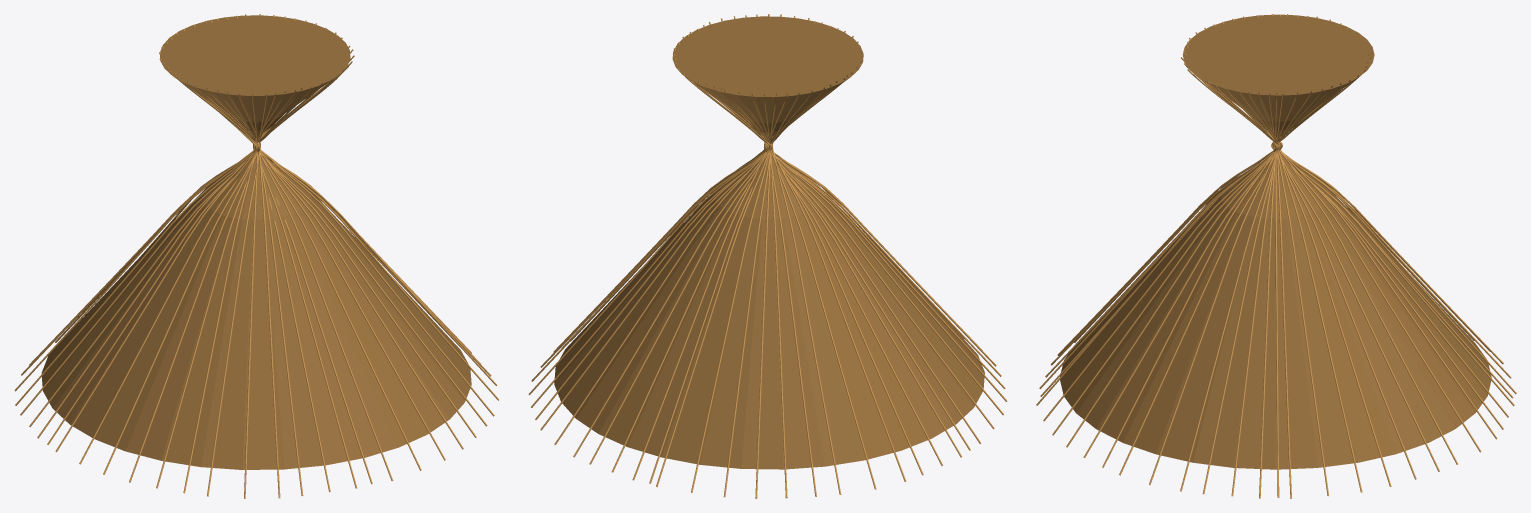
File: Rice Straw.fbx
The picture shows the model from 3 angles, left to right: view 1: azimuth 30°, elevation 25°; view 2: azimuth 150°, elevation 25°; view 3: azimuth 270°, elevation 25°; orthographic projection.
Parts seen in each view (by area): view 1: RICE_STRAW; view 2: RICE_STRAW; view 3: RICE_STRAW.
Boxes of the visible parts, box(x1,y1,x2,y2) form: RICE_STRAW: box(14, 14, 499, 498); RICE_STRAW: box(528, 14, 1007, 498); RICE_STRAW: box(1036, 14, 1516, 498).
Bounding box in the file's own units: 139 × 110 × 139.
